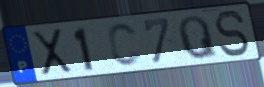1: (72, 25, 95, 73)
7: (141, 17, 172, 67)
C: (106, 21, 144, 68)
Q: (177, 14, 220, 61)
S: (212, 9, 252, 58)
X: (29, 27, 75, 78)
